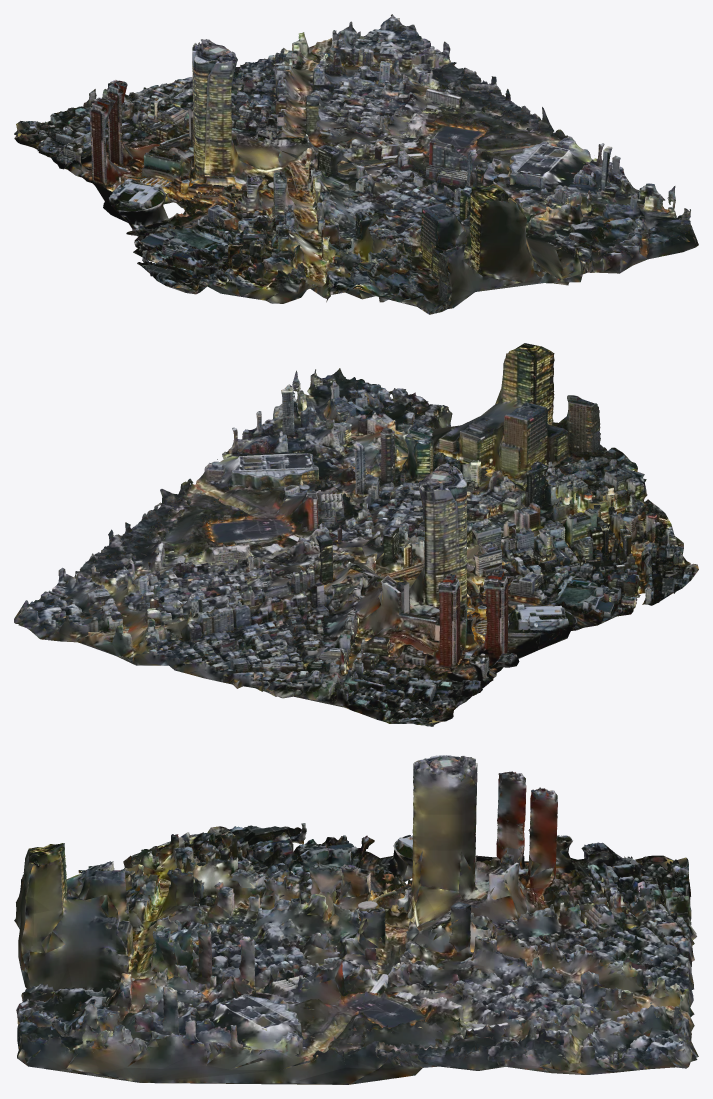
File: osaka.glb
The picture shows the model from 3 angles, top to bottom: view 1: azimuth 30°, elevation 25°; view 2: azimuth 150°, elevation 25°; view 3: azimuth 270°, elevation 25°; orthographic projection. The views are drawn at different scales.
Visible parts, largest first — view 1: meshNode_Material_u1_v1_0; view 2: meshNode_Material_u1_v1_0; view 3: meshNode_Material_u1_v1_0.
Boxes of the visible parts, bbox=[...] form: meshNode_Material_u1_v1_0: bbox=[14, 14, 698, 314]; meshNode_Material_u1_v1_0: bbox=[14, 343, 698, 726]; meshNode_Material_u1_v1_0: bbox=[14, 755, 698, 1084].
Bounding box in the file's own units: 49.04 × 16.78 × 58.84.
Materials: 1 (1 with a texture image).
